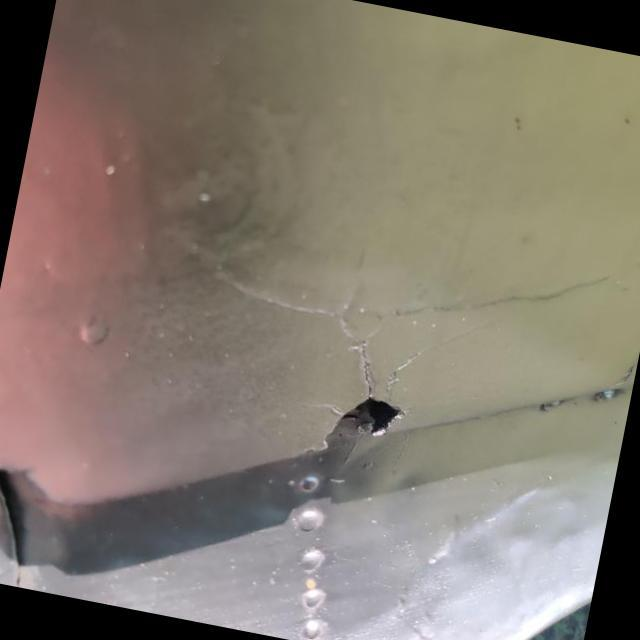Rupture: (186, 262, 445, 480)
